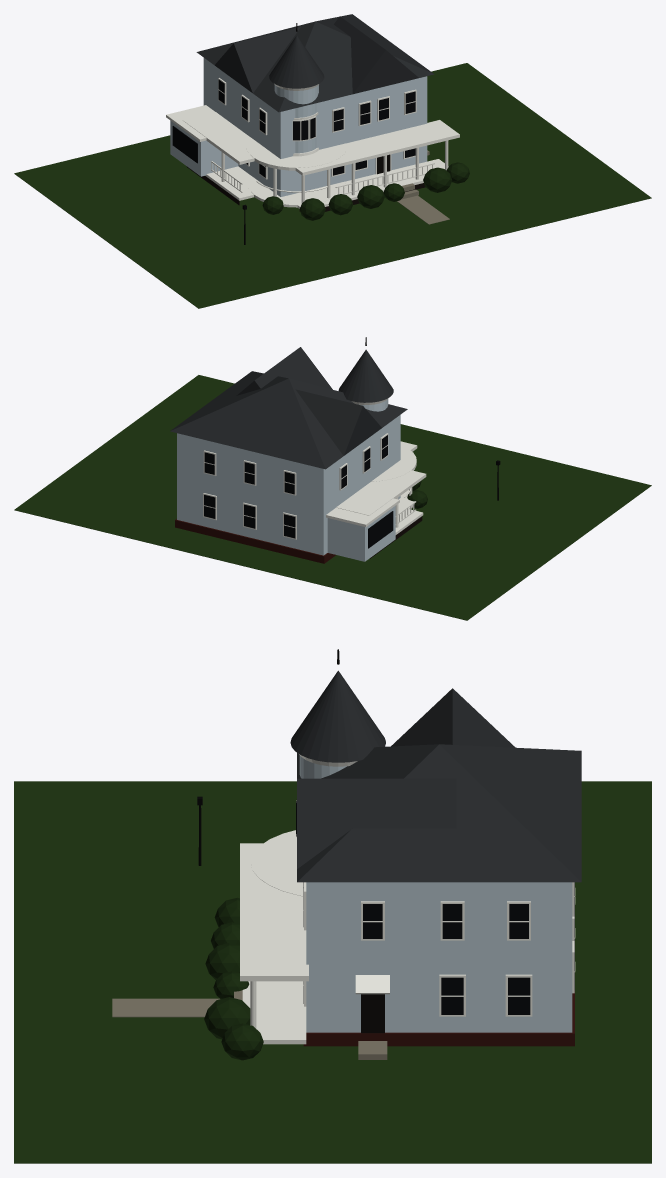
The model's file is RossvilleQueenAnneHome.obj.
3 views of the same model, one above another, from view 1: azimuth 30°, elevation 25°; view 2: azimuth 150°, elevation 25°; view 3: azimuth 270°, elevation 25° (orthographic). The views are drawn at different scales.
Parts seen in each view (by area): view 1: RossvilleQueenAnneHome; view 2: RossvilleQueenAnneHome; view 3: RossvilleQueenAnneHome.
Part boxes in pixels (x1=…): RossvilleQueenAnneHome: x1=14, y1=14, x2=651, y2=308; RossvilleQueenAnneHome: x1=14, y1=337, x2=651, y2=620; RossvilleQueenAnneHome: x1=14, y1=649, x2=651, y2=1163.
Bounding box in the file's own units: 34 × 12.32 × 24.
